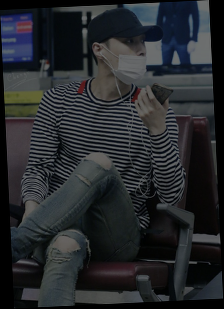mask_weared_incorrect: (101, 36, 148, 85)
